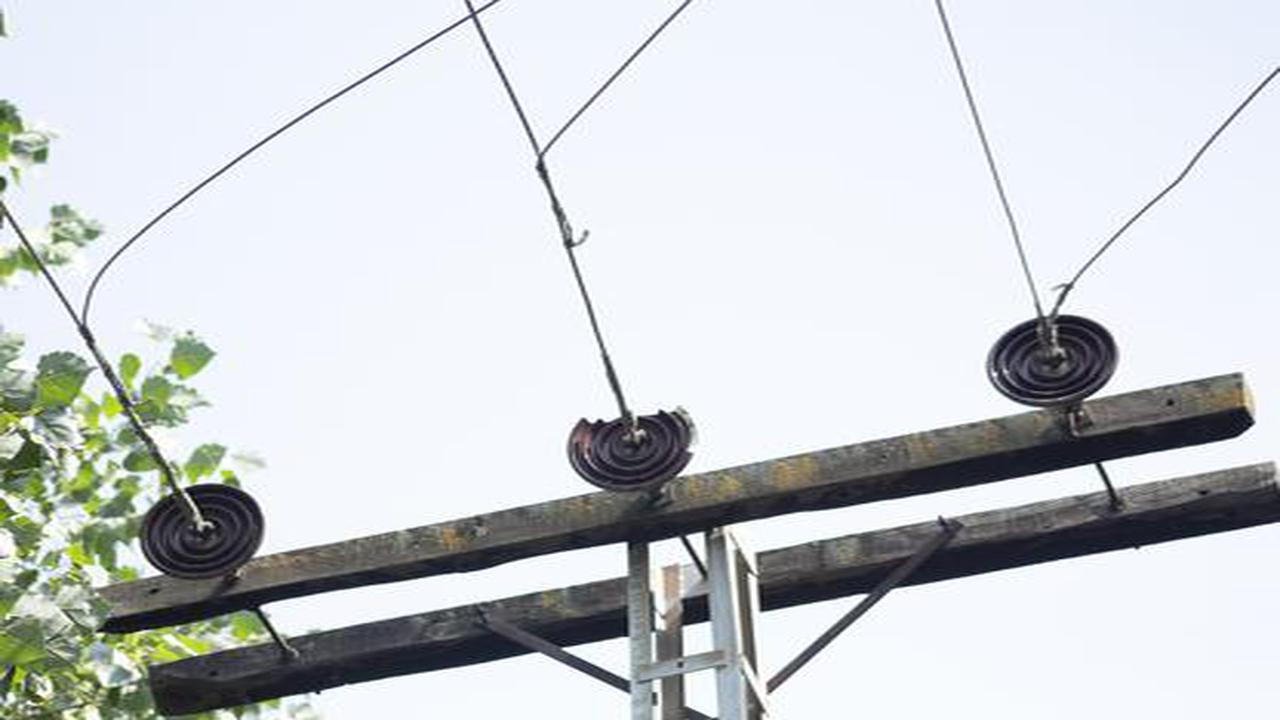defect_disc: (564, 400, 703, 485)
insulator_disc: (983, 310, 1124, 411), (131, 482, 269, 577)
